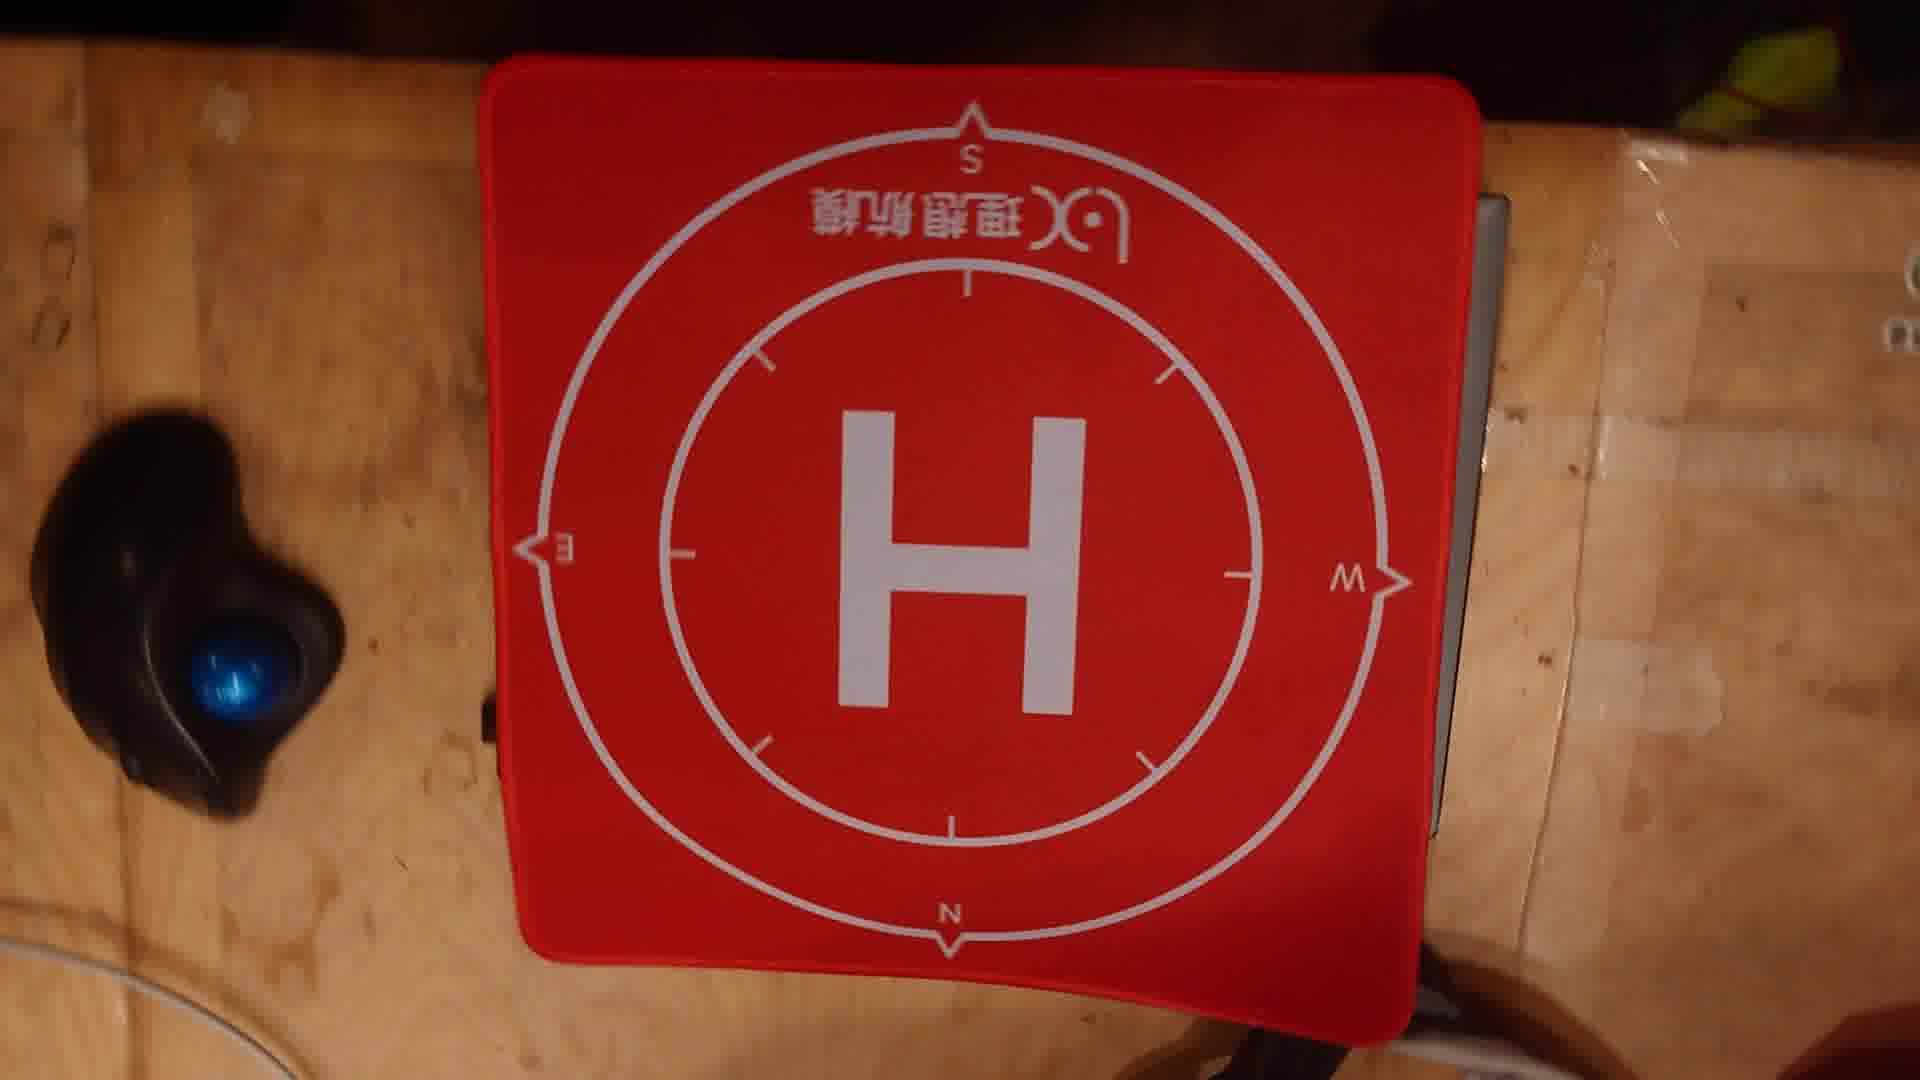H: (832, 407, 1084, 719)
